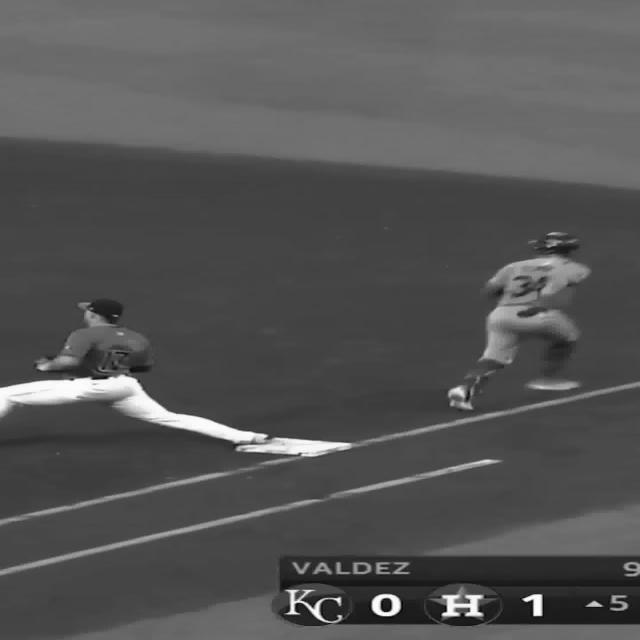base: (232, 433, 352, 458)
shoe: (446, 386, 474, 411), (525, 378, 581, 390)
